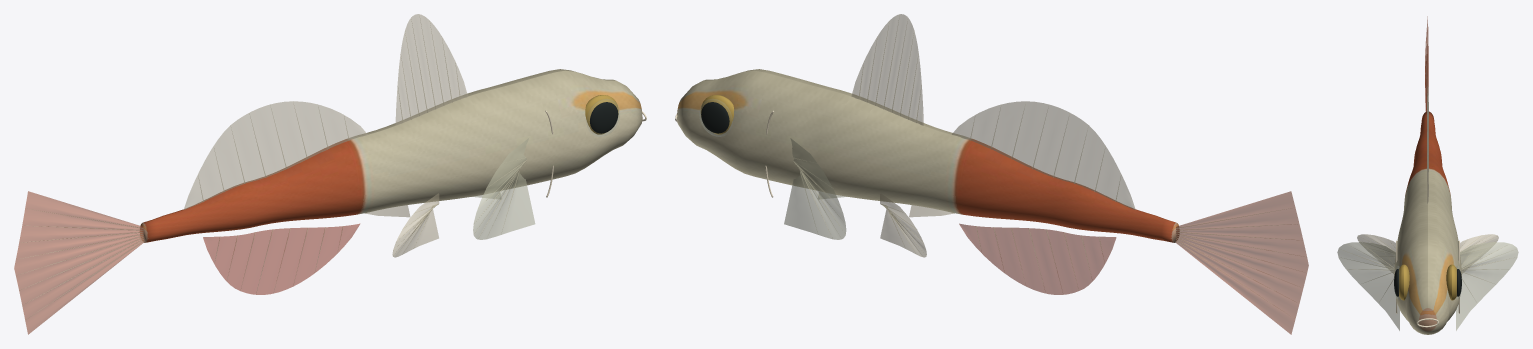
The model's file is firefish-mobile.glb.
3 views of the same model, side by side, from view 1: azimuth 30°, elevation 25°; view 2: azimuth 150°, elevation 25°; view 3: azimuth 270°, elevation 25° (orthographic). The views are drawn at different scales.
Visible parts, largest first — view 1: skin, dorsal, tail, anal, pectoral-left, dorsal-ray, pelvic-left, eye-pupil--1; view 2: skin, dorsal, tail, anal, pectoral-left, dorsal-ray, pelvic-left, eye-pupil--1; view 3: skin, pectoral-left, pelvic-left, eye-iris--1, dorsal-ray, tail, eye-pupil--1, operculum, dorsal.
Boxes of the visible parts, x1,y1,x2,y2 form: skin: (140,69,642,242); dorsal: (184,14,467,209); tail: (14,191,143,334); anal: (203,223,359,294); pectoral-left: (472,138,535,239); dorsal-ray: (19,14,526,317); pelvic-left: (365,193,439,257); eye-pupil--1: (590,102,618,133); skin: (677,69,1179,242); dorsal: (851,14,1135,209); tail: (1176,191,1308,334); anal: (959,223,1116,294); pectoral-left: (784,138,847,239); dorsal-ray: (793,19,1302,307); pelvic-left: (880,193,954,257); eye-pupil--1: (701,102,729,133); skin: (1394,111,1461,334); pectoral-left: (1337,242,1518,330); pelvic-left: (1357,234,1498,273); eye-iris--1: (1399,264,1456,300); dorsal-ray: (1341,43,1514,295); tail: (1425,16,1428,111); eye-pupil--1: (1394,269,1461,296); operculum: (1396,240,1459,327); dorsal: (1427,86,1428,203).
Size of the model in its own units: 0.6032 by 0.2244 by 0.1805.
11 materials, 1 textured.
